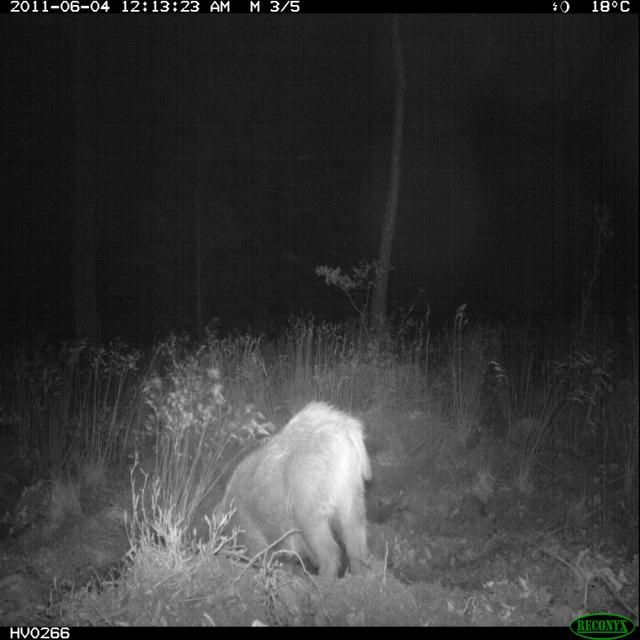boar: (178, 393, 387, 590)
